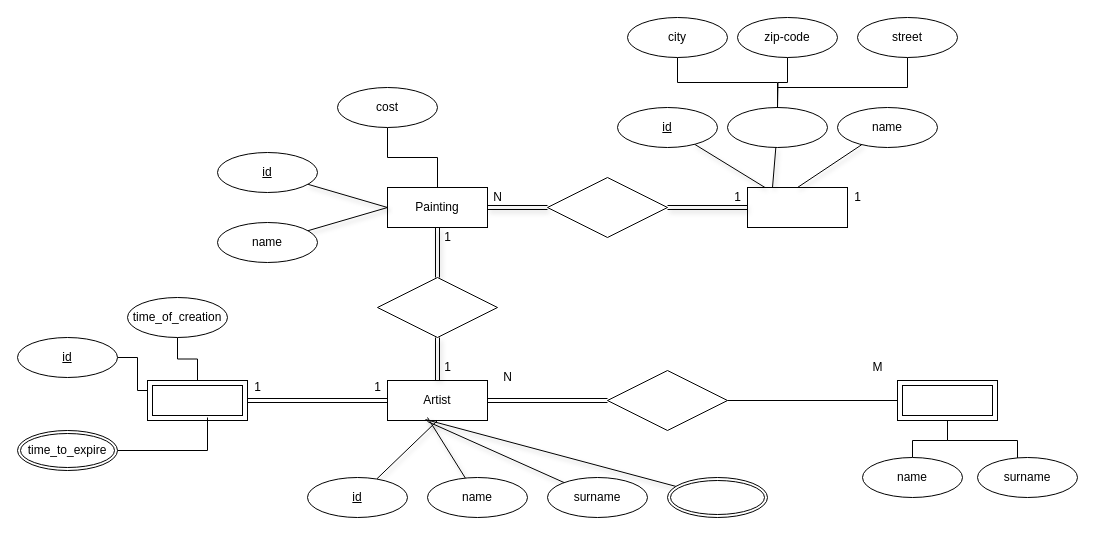
The diagram is 1095 pixels wide and 535 high, and some of its shapes have lost their labels. The centre of each missing label's shape, as x and y in pixels:
"Assistant" belongs at point (947, 400).
"belongs to" belongs at point (607, 207).
"has an" belongs at point (437, 307).
"have" belongs at point (667, 400).
"location" belongs at point (777, 127).
"Museum" belongs at point (797, 207).
"Passport" belongs at point (197, 400).
"pseudonime" belongs at point (717, 497).
